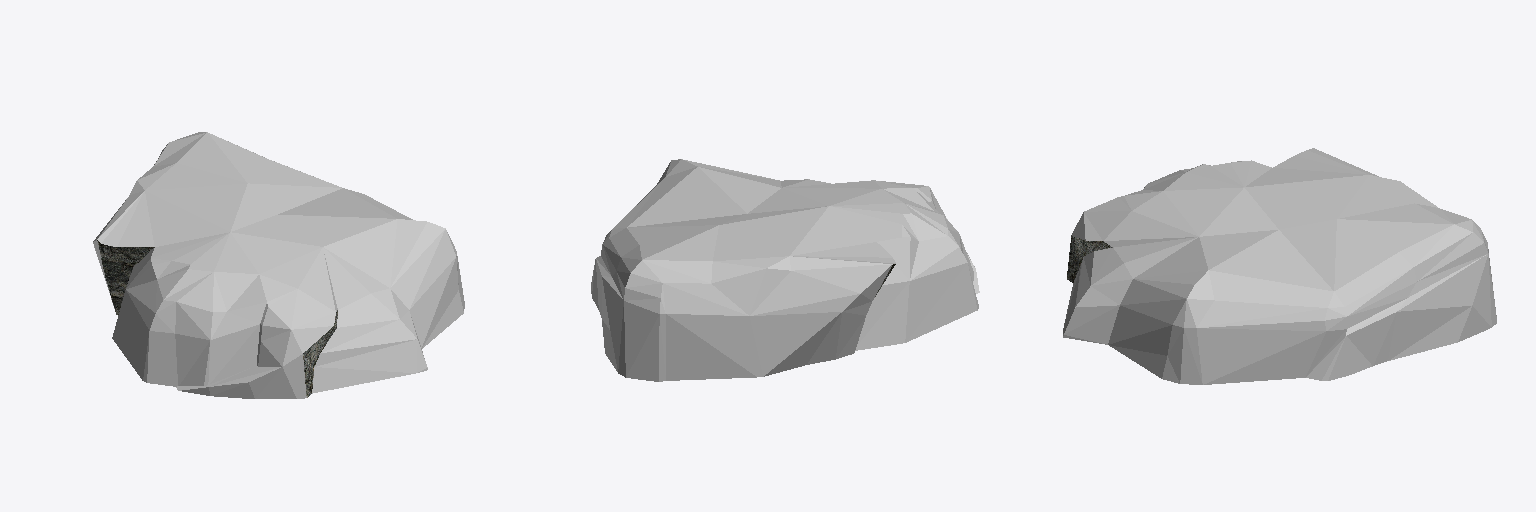
3 views of the same model, side by side, from view 1: azimuth 30°, elevation 25°; view 2: azimuth 150°, elevation 25°; view 3: azimuth 270°, elevation 25° (orthographic).
Parts seen in each view (by area): view 1: outcropB; view 2: outcropB; view 3: outcropB.
Part boxes in pixels (left/top/right/bottom): outcropB: left=93, top=132, right=464, bottom=398; outcropB: left=591, top=159, right=979, bottom=381; outcropB: left=1063, top=148, right=1496, bottom=384.
Bounding box in the file's own units: 22.98 × 6.87 × 26.82.
2 materials, 1 textured.